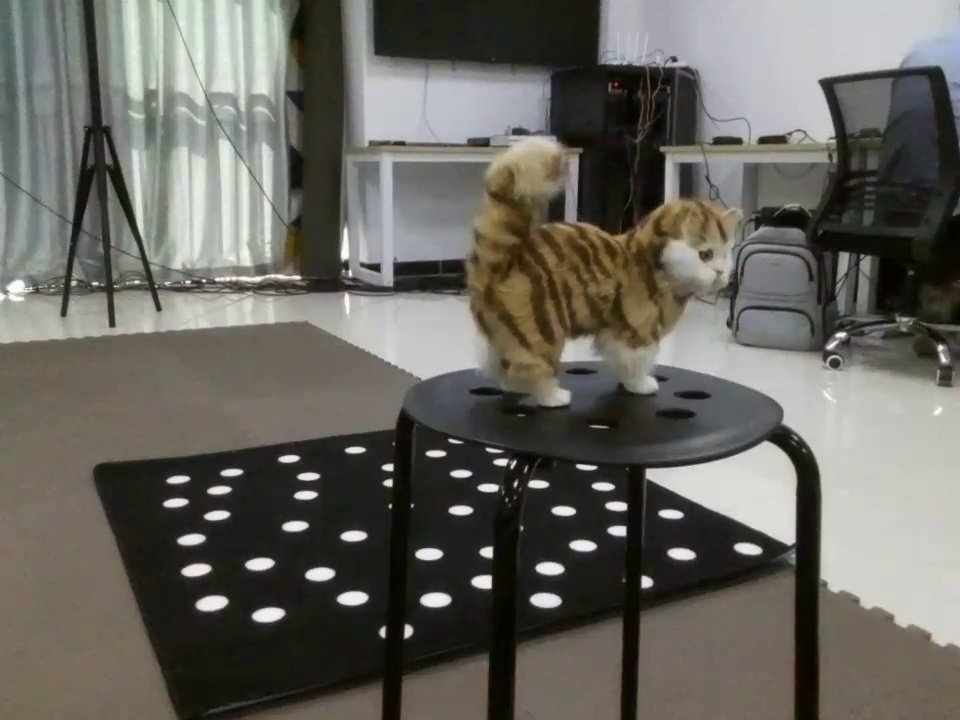cat: (437, 129, 751, 417)
